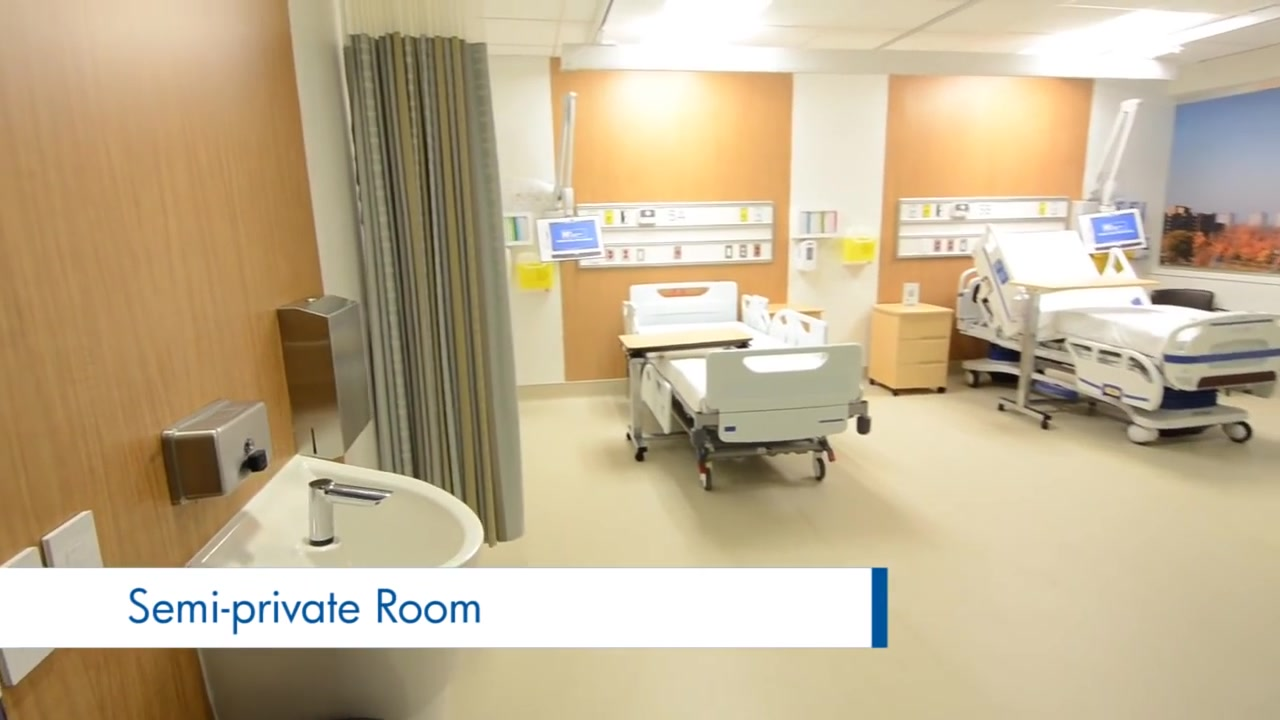bedrail: (1062, 336, 1164, 409), (740, 289, 828, 349), (639, 364, 674, 437), (617, 302, 638, 334)
bedside_monitor: (536, 216, 606, 263), (1079, 209, 1147, 255)
bedside_table: (869, 301, 955, 396)
chair: (1152, 288, 1233, 313)
curtain: (340, 31, 520, 546)
dispenser: (275, 291, 377, 458), (796, 208, 838, 237), (795, 239, 820, 276)
faucet: (299, 478, 391, 545)
foot_board: (700, 343, 863, 439), (1164, 314, 1280, 389)
hospital_bed: (955, 231, 1280, 445), (620, 277, 876, 497)
medical_waste_container: (519, 254, 558, 293), (839, 234, 877, 267)
overbed_table: (999, 277, 1159, 429), (617, 326, 753, 459)
sink: (184, 454, 486, 720)
